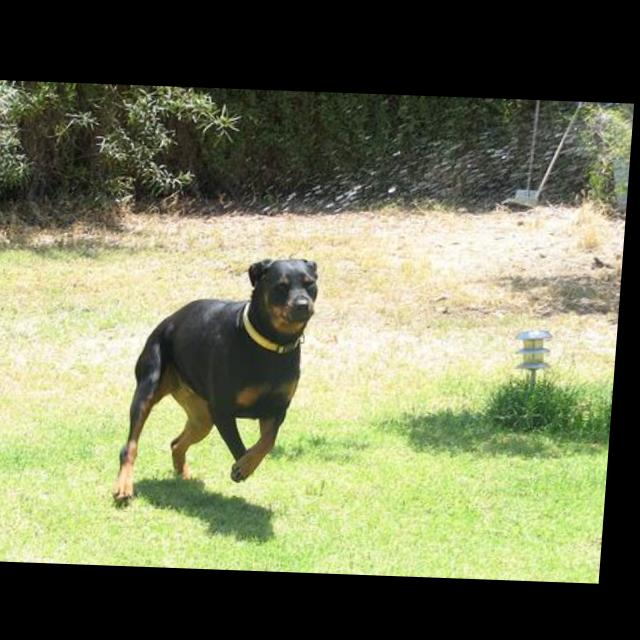rottweiler: (119, 250, 326, 508)
